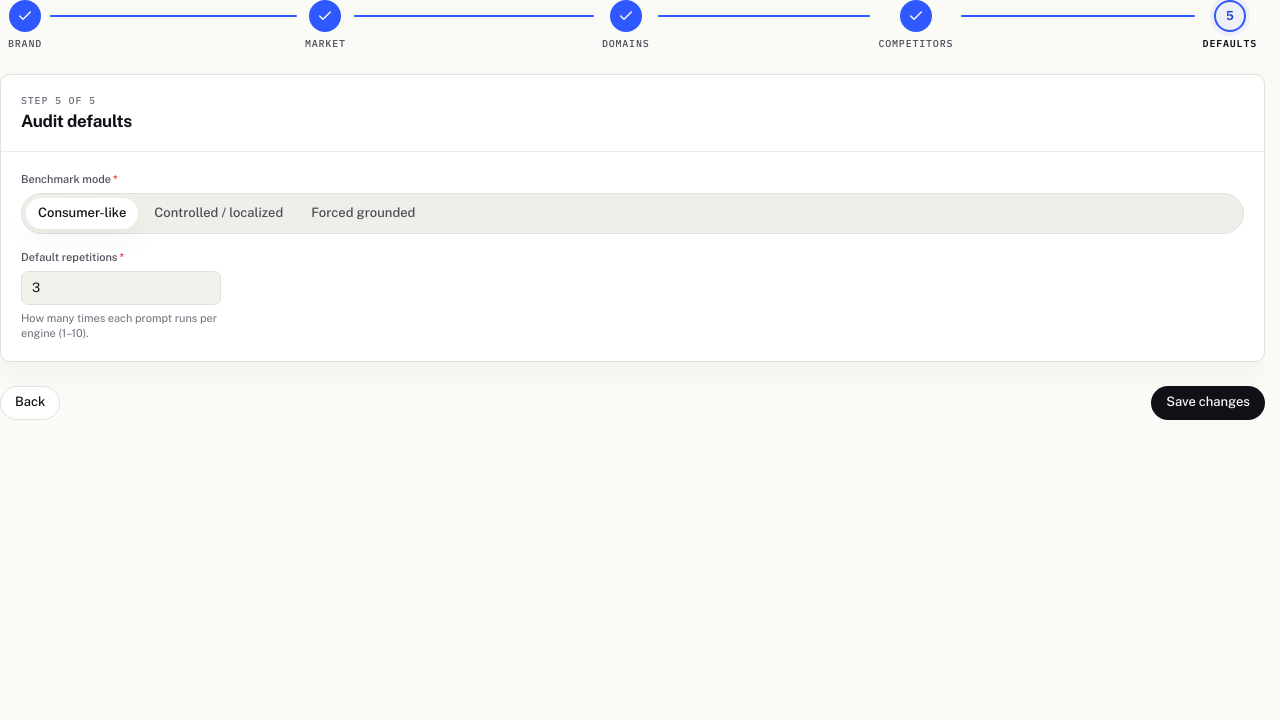
SetupForm — AI suggestions › appends suggested competitors after consent, skipping duplicates
Step 1. Click the button "Competitors" → point(916, 25), box [870, 0, 961, 50]
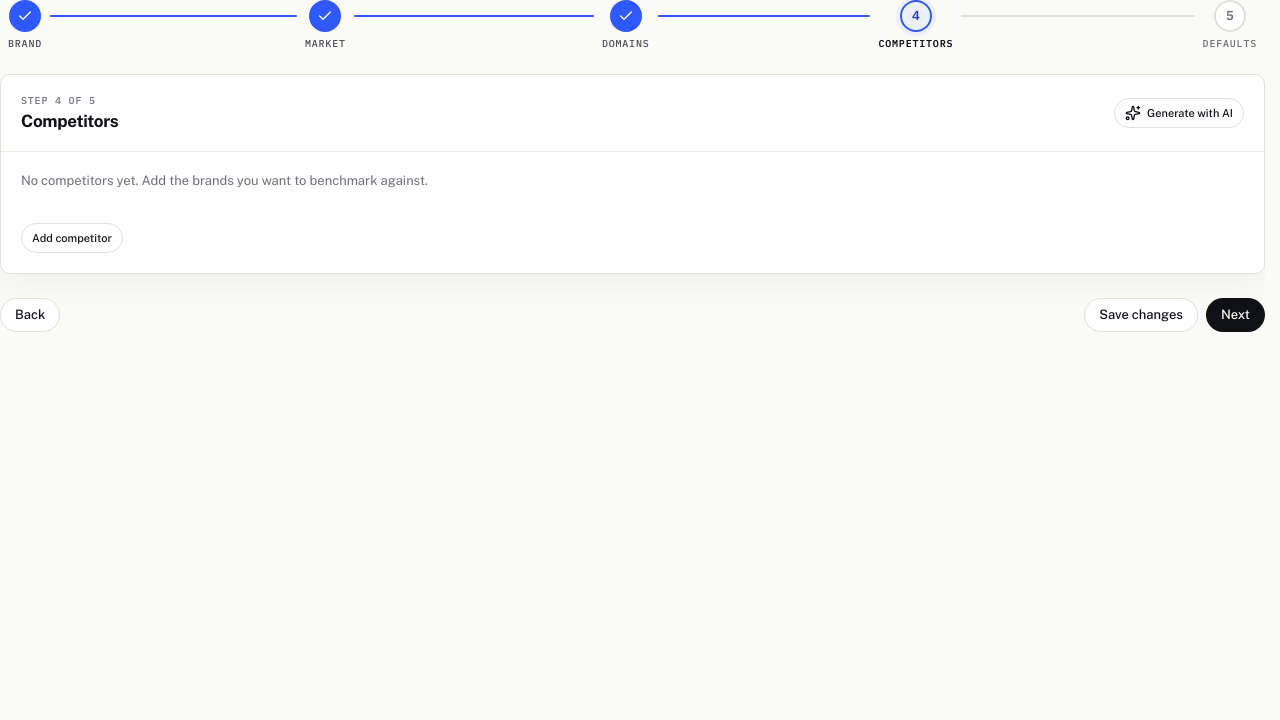
Step 2. Click the button "Add competitor" → point(72, 238), box [21, 223, 123, 253]
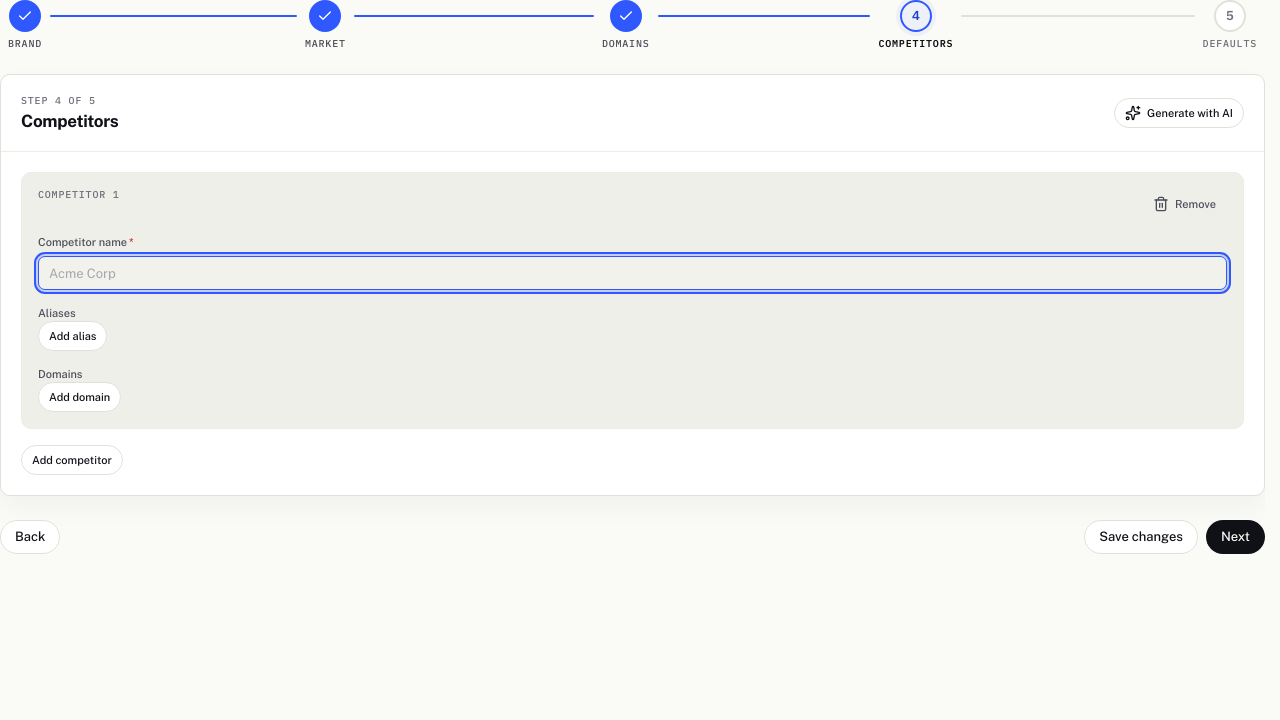
Step 3. Type "acme" into the field labelled "Competitor name*" → point(632, 273), box [38, 256, 1227, 290]
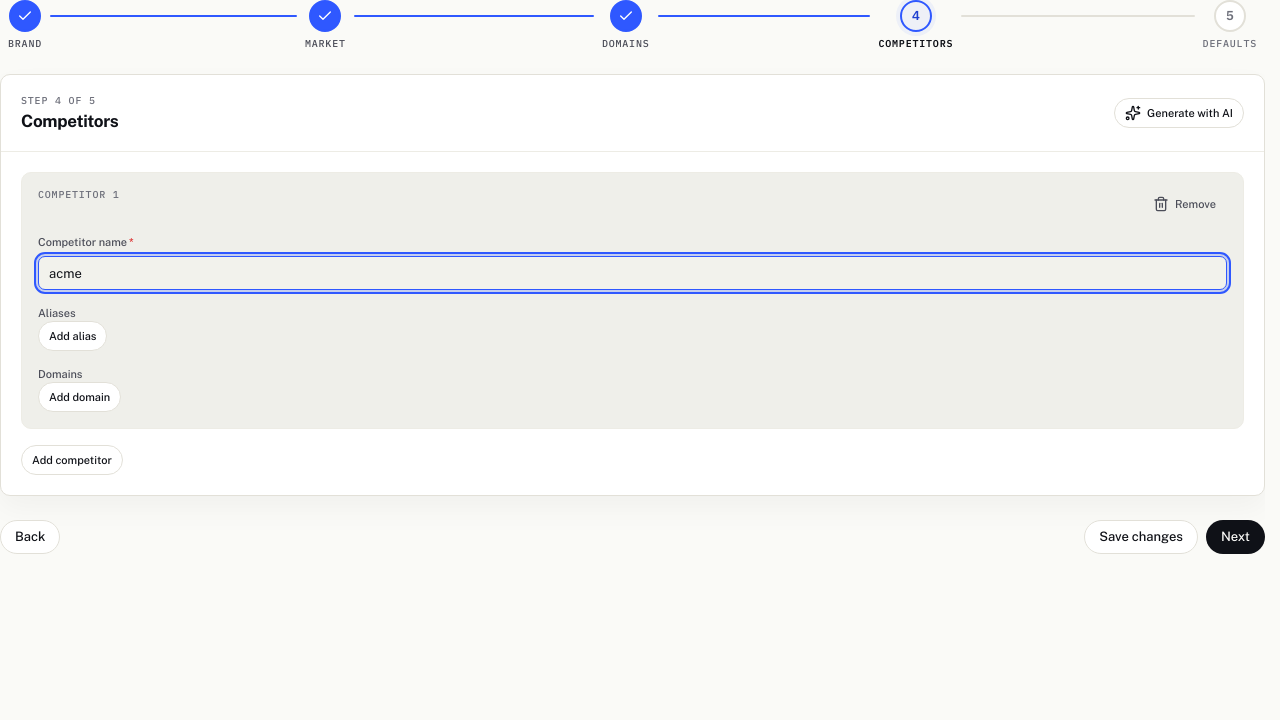
Step 4. Click the button "Generate with AI" → point(1179, 113), box [1114, 98, 1244, 128]
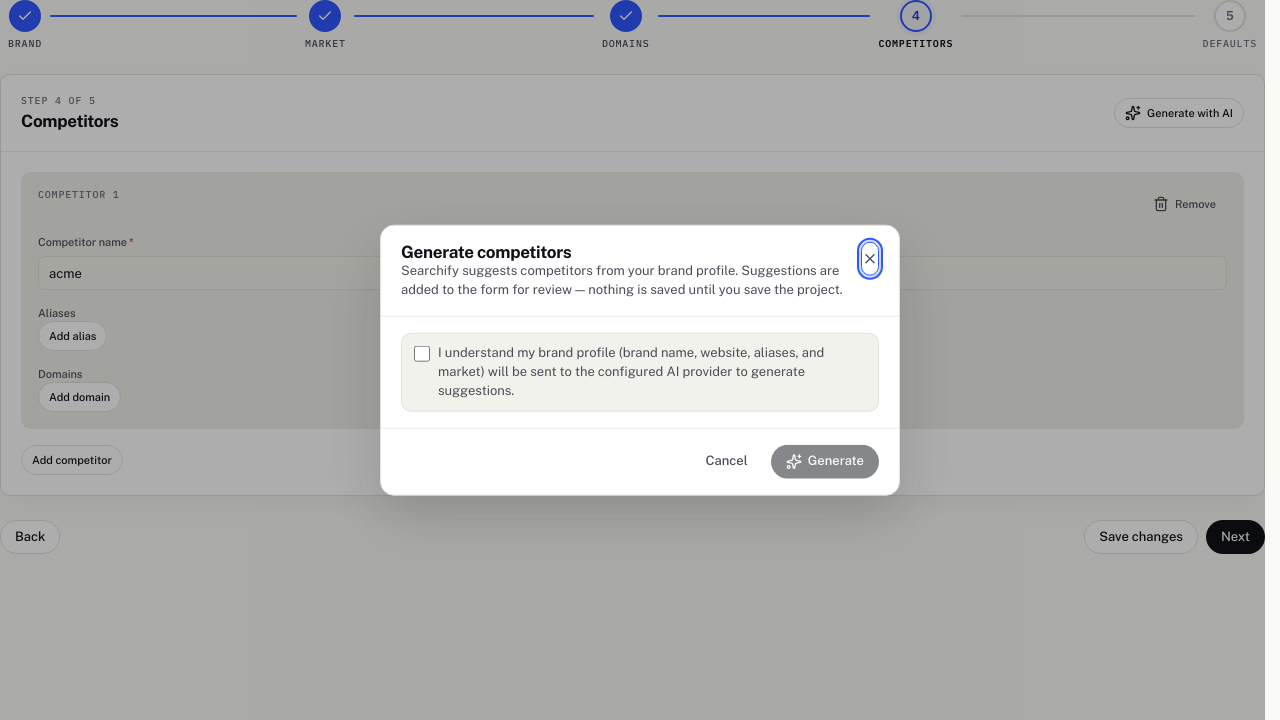
Now the button "Generate" is disabled, box [771, 444, 879, 478]
Step 5. Click the checkbox named "confirm sending brand details to the ai provider" → point(422, 354), box [414, 346, 430, 362]
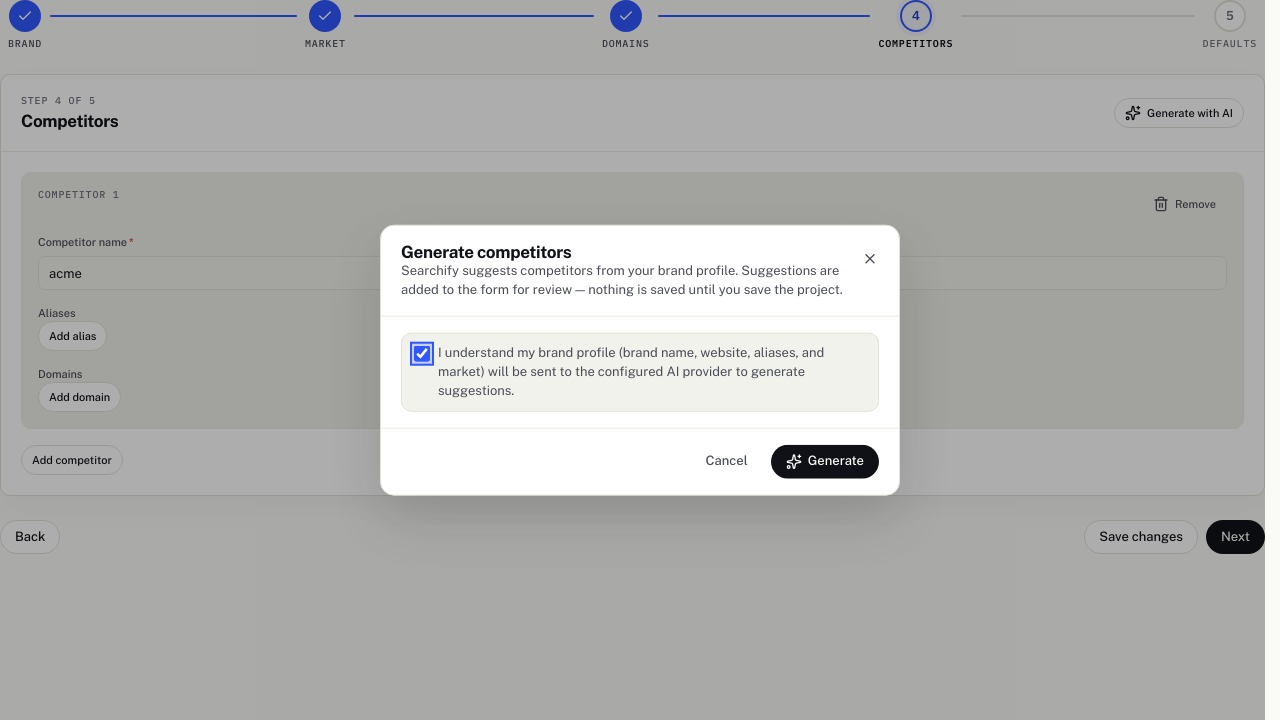
Step 6. Click the button "Generate" → point(825, 461), box [771, 444, 879, 478]
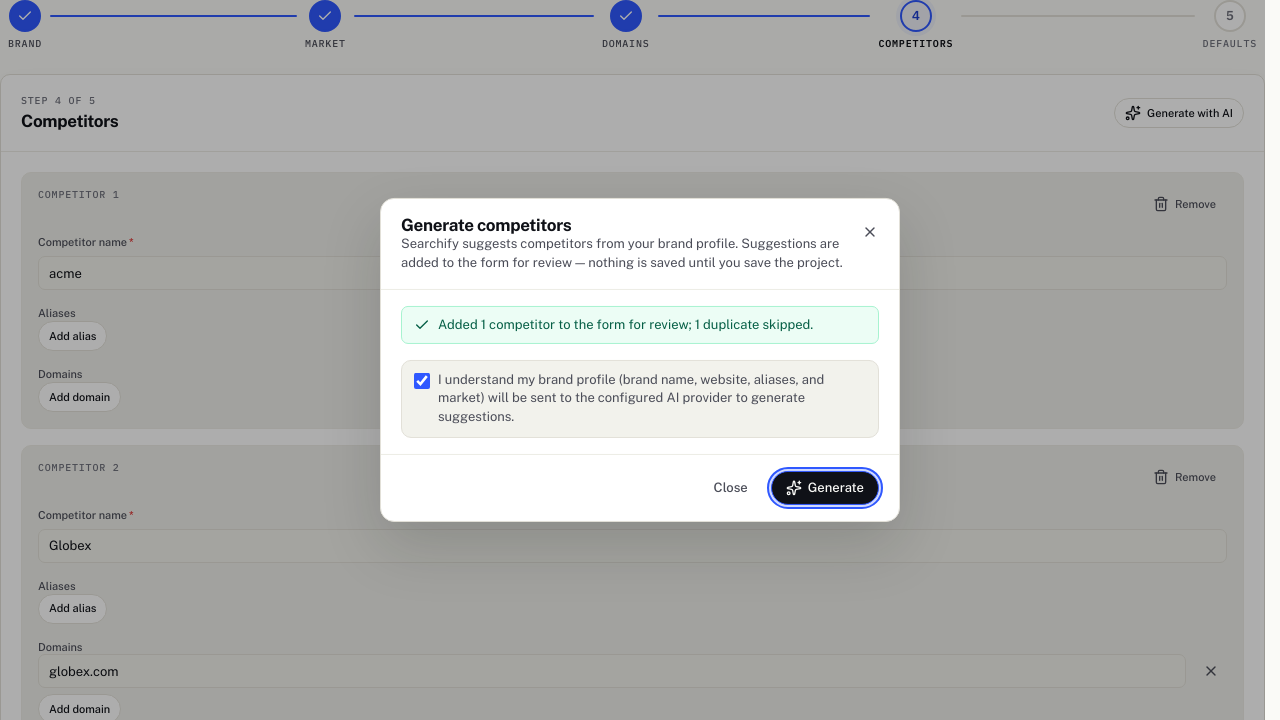
Now the number of fields labelled "Competitor name*" is 2, box [38, 256, 1227, 290]; [38, 529, 1227, 563]
Now the text "Added 1 competitor to the form for review; 1 duplicate skipped" is shown, box [438, 317, 813, 332]
Now the field labelled "Competitor name*" holds "Globex", box [38, 529, 1227, 563]
